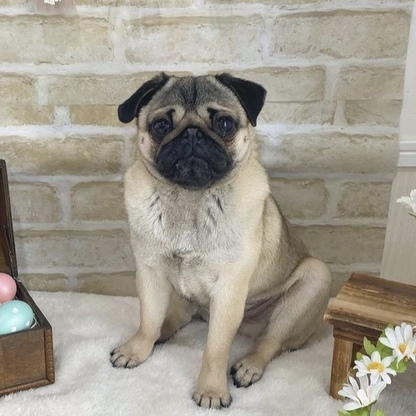Pug: (103, 67, 338, 416)
